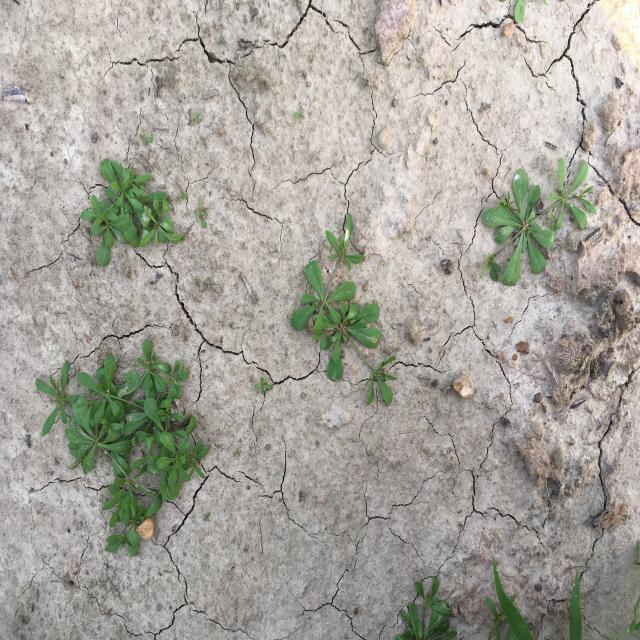Carpetweed: (35, 338, 212, 560), (288, 211, 398, 409), (478, 156, 598, 289), (79, 158, 187, 269), (396, 570, 458, 640)
